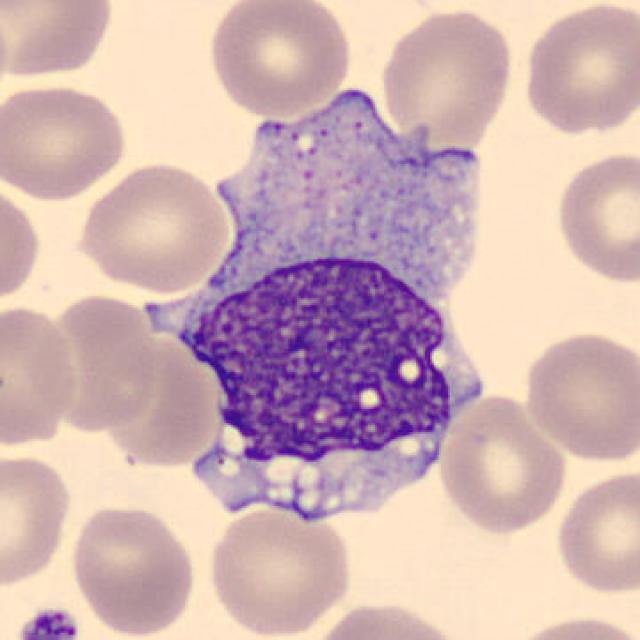Monocyte: (158, 78, 500, 550)
Platelets: (14, 604, 83, 640)
RBC: (73, 158, 233, 292), (202, 500, 355, 640), (377, 5, 517, 146), (436, 391, 570, 536), (30, 291, 164, 434), (66, 501, 199, 638), (204, 0, 356, 118), (519, 326, 638, 466), (519, 0, 638, 138), (0, 79, 132, 203), (0, 300, 82, 450), (551, 146, 638, 286), (551, 466, 638, 598), (0, 449, 75, 589), (0, 0, 117, 83), (304, 597, 467, 640), (0, 178, 43, 309), (505, 612, 638, 640)
